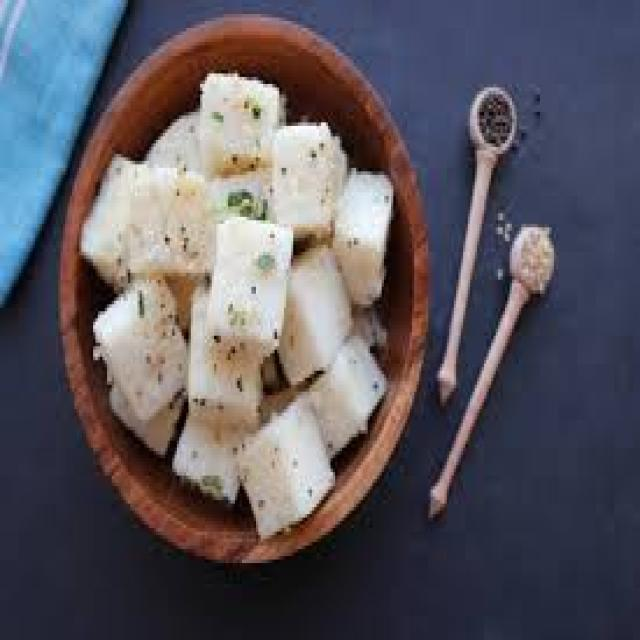DHOKLA: (81, 154, 226, 427), (175, 395, 333, 535), (209, 213, 291, 353), (277, 245, 351, 381), (270, 122, 344, 238), (333, 168, 391, 301), (200, 77, 279, 154)
